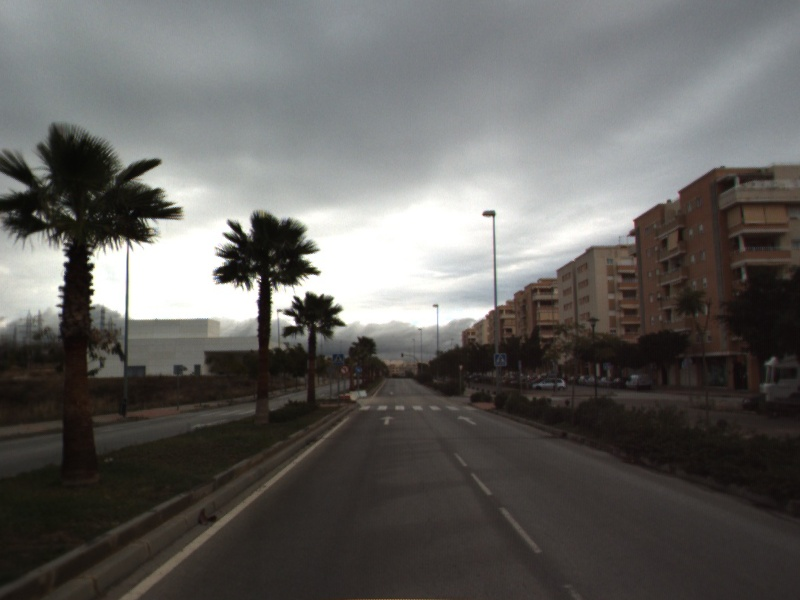STRAIGHT: (455, 413, 478, 426), (378, 413, 397, 426)
